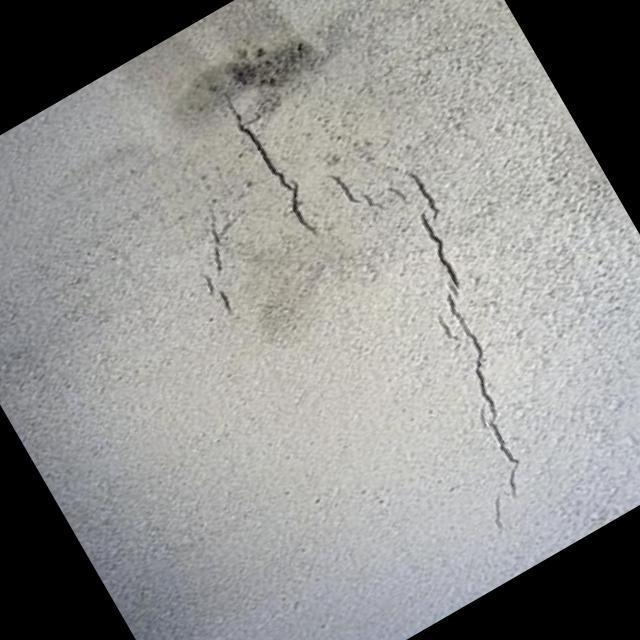defect: (324, 168, 524, 534), (220, 90, 320, 236), (200, 221, 238, 320)
